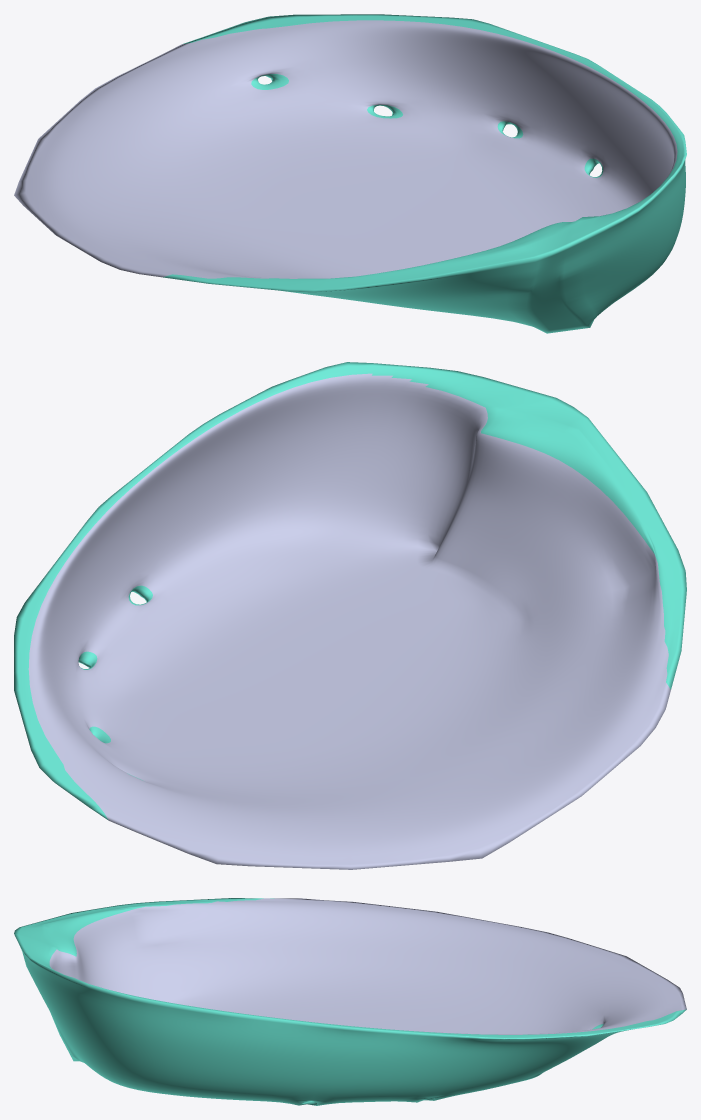
The model's file is abalone.fbx.
The picture shows the model from 3 angles, top to bottom: view 1: azimuth 30°, elevation 25°; view 2: azimuth 150°, elevation 25°; view 3: azimuth 270°, elevation 25°; orthographic projection. The views are drawn at different scales.
Visible parts, largest first — view 1: Plane; view 2: Plane; view 3: Plane.
Boxes of the visible parts, x1,y1,x2,y2 form: Plane: (14,14,686,333); Plane: (14,362,686,869); Plane: (14,898,686,1105).
Bounding box in the file's own units: 410 × 115 × 573.
